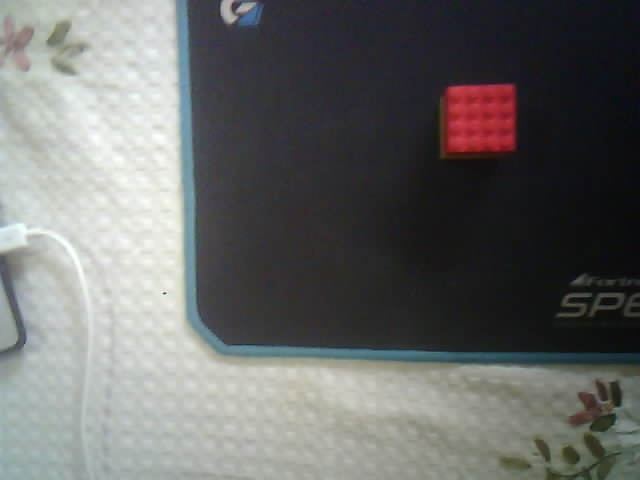lego: (437, 83, 517, 159)
